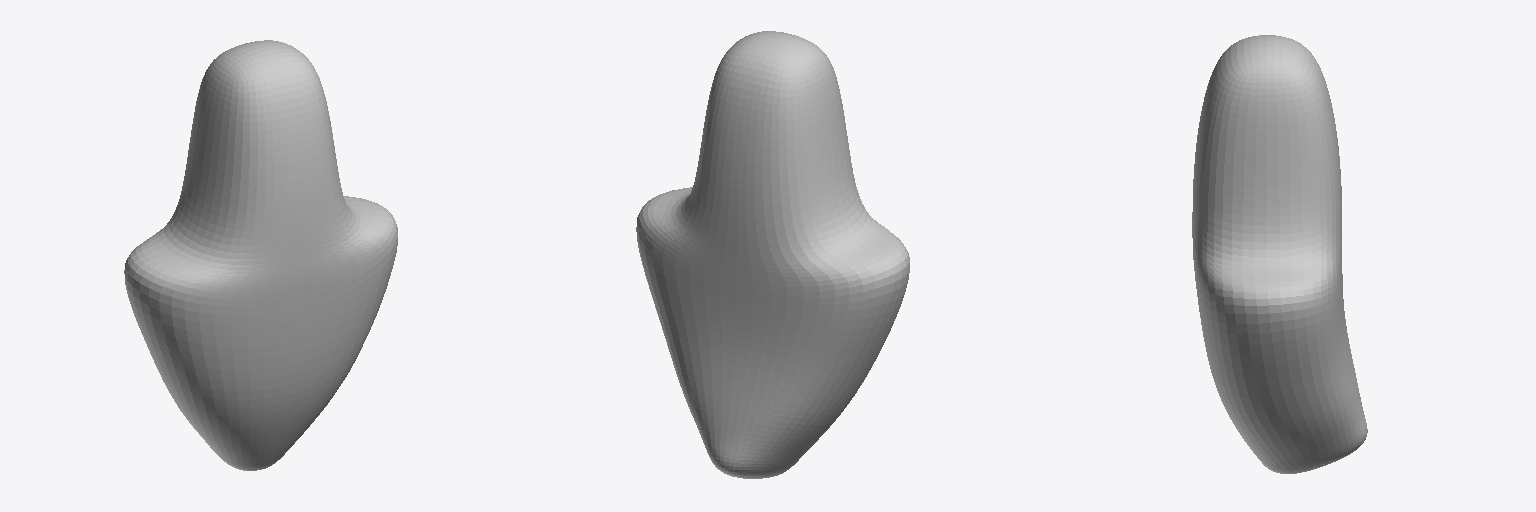
Rendered from ghost2.obj.
3 views of the same model, side by side, from view 1: azimuth 30°, elevation 25°; view 2: azimuth 150°, elevation 25°; view 3: azimuth 270°, elevation 25° (orthographic).
Visible parts, largest first — view 1: Cube; view 2: Cube; view 3: Cube.
Part boxes in pixels (bbox=[...]): Cube: bbox=[124, 40, 397, 470]; Cube: bbox=[636, 31, 909, 478]; Cube: bbox=[1192, 35, 1367, 473].
Bounding box in the file's own units: 3.69 × 5.83 × 2.17.